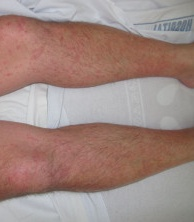SJS-TEN: (0, 115, 194, 207), (0, 10, 194, 101)
